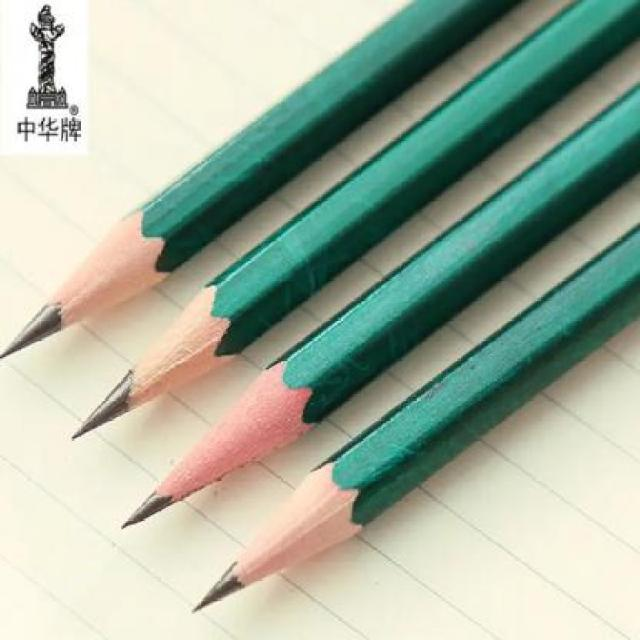pencil: (60, 0, 639, 455), (112, 77, 640, 543), (0, 0, 529, 372), (184, 220, 640, 627)
